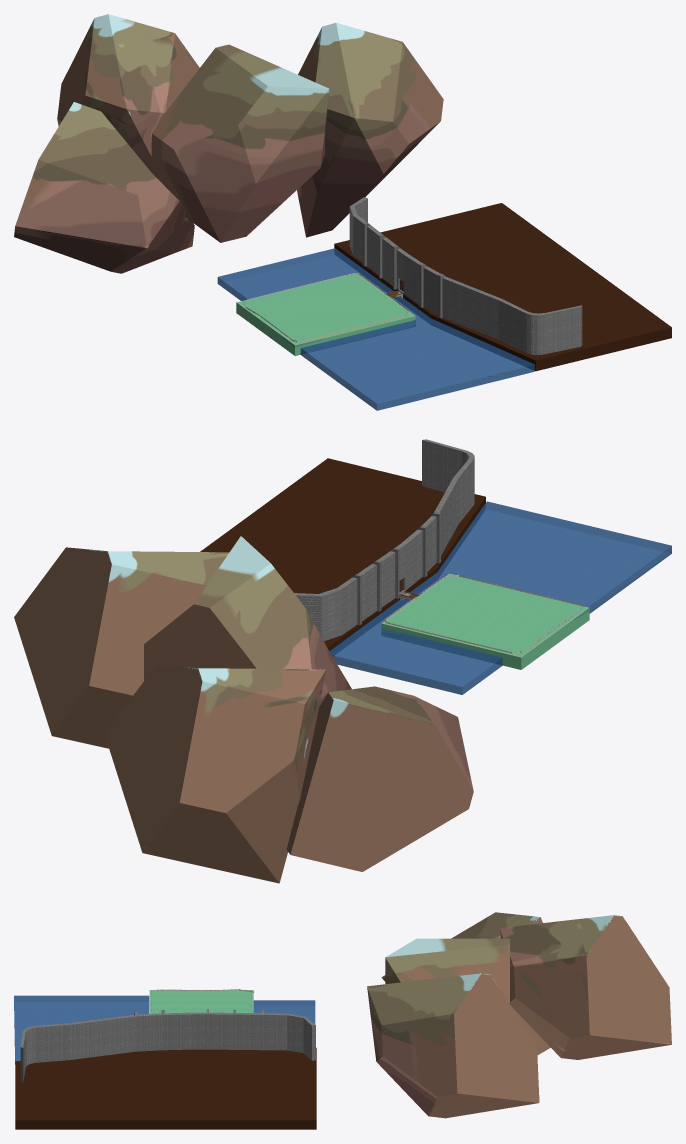
File: ch1_overworld_env_iter2.glb
3 views of the same model, one above another, from view 1: azimuth 30°, elevation 25°; view 2: azimuth 150°, elevation 25°; view 3: azimuth 270°, elevation 25° (orthographic). The views are drawn at different scales.
Visible parts, largest first — view 1: Mountains, CitadelFoundation, River, CitadelWall-col, Land, LandFence-col; view 2: Mountains, River, CitadelFoundation, Land, CitadelWall-col, LandFence-col; view 3: Mountains, CitadelFoundation, CitadelWall-col, River, Land.
Part boxes in pixels (left/top/right/bottom): Mountains: left=14, top=14, right=443, bottom=273; CitadelFoundation: left=334, top=203, right=671, bottom=371; River: left=217, top=248, right=534, bottom=410; CitadelWall-col: left=349, top=197, right=582, bottom=355; Land: left=236, top=273, right=415, bottom=355; LandFence-col: left=243, top=273, right=408, bottom=343; Mountains: left=14, top=536, right=473, bottom=883; River: left=329, top=501, right=671, bottom=694; CitadelFoundation: left=200, top=458, right=485, bottom=650; Land: left=381, top=573, right=589, bottom=669; CitadelWall-col: left=294, top=439, right=474, bottom=641; LandFence-col: left=384, top=574, right=585, bottom=655; Mountains: left=367, top=912, right=671, bottom=1118; CitadelFoundation: left=15, top=1047, right=316, bottom=1129; CitadelWall-col: left=20, top=1009, right=315, bottom=1082; River: left=14, top=995, right=315, bottom=1064; Land: left=149, top=990, right=253, bottom=1013.
Size of what is drawn, in the model's own units: 511 by 233 by 796.
Materials: 19 (12 with a texture image).
